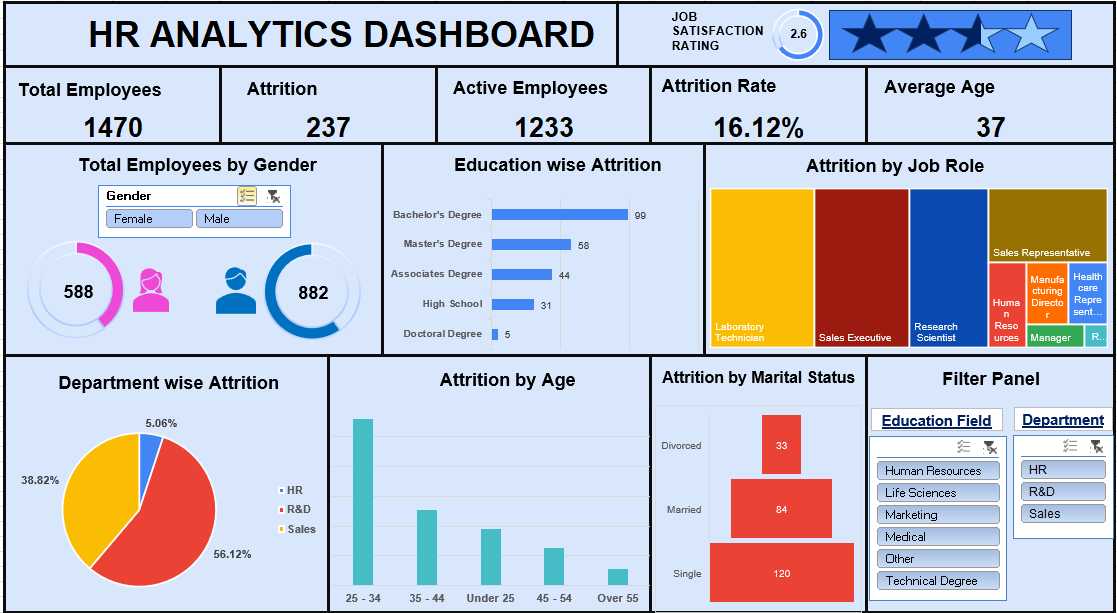

Layout of this report page (visuals, bound fields, positions):
{"tool":"powerbi","page":{"name":"Page 1","canvas":[1280,720],"ordinal":0},"visuals":[{"type":"cardVisual","title":"Total Employees","fields":{"Data":["Sum(HR data.Employee Count)"]},"box":[0,60,235.7,125.7],"z":0},{"type":"cardVisual","title":"Attrition","fields":{"Data":["Sum(HR data.Attrition Count)"]},"box":[263,59.1,235.3,126.7],"z":1000},{"type":"cardVisual","title":"Attrition Rate","fields":{"Data":["HR data.Attrition Rate"]},"box":[524.8,62.7,240.1,123.1],"z":2000},{"type":"cardVisual","title":"Active Employees","fields":{"Data":["HR data.Active Employee"]},"box":[783,62.7,235.3,123.1],"z":3000},{"type":"cardVisual","title":"Average Age","fields":{"Data":["Avg(HR data.Age)"]},"box":[1044.8,63.9,235.3,121.9],"z":4000},{"type":"pieChart","title":"Department Wise Attrition ","fields":{"Category":["HR data.Department"],"Y":["Sum(HR data.Attrition Count)"]},"box":[0,201.4,370,254.3],"z":5000},{"type":"columnChart","title":"No. of Employees by Age Group","fields":{"Category":["HR data.CF_age band"],"Y":["Sum(HR data.Employee Count)"],"Series":["HR data.Gender"]},"box":[381.4,201.4,487.1,285.7],"z":6000},{"type":"pivotTable","title":"Job Satisfaction Ratings","fields":{"Rows":["HR data.Job Role"],"Columns":["HR data.Job Satisfaction"],"Values":["Sum(HR data.Employee Count)"]},"box":[881.4,201.4,398.6,285.7],"z":7000},{"type":"barChart","title":"Education Field Wise Attrition ","fields":{"Category":["HR data.Education Field"],"Y":["Sum(HR data.Attrition Count)"]},"box":[0,465.7,370,254.3],"z":8000},{"type":"donutChart","title":"Over 55","fields":{"Category":["HR data.Gender"],"Y":["Sum(HR data.Attrition Count)"],"Series":["HR data.CF_age band"]},"box":[1084.3,535.7,167.1,184.3],"z":9000},{"type":"textbox","title":"HR Analytics Dashboard","box":[413.8,0,487.4,45.8],"z":10000},{"type":"donutChart","title":"35-44","fields":{"Category":["HR data.Gender"],"Y":["Sum(HR data.Attrition Count)"],"Series":["HR data.CF_age band"]},"box":[722.9,535.7,168.6,182.9],"z":11000},{"type":"donutChart","title":"45-54","fields":{"Category":["HR data.Gender"],"Y":["Sum(HR data.Attrition Count)"],"Series":["HR data.CF_age band"]},"box":[901.4,535.7,168.6,182.9],"z":12000},{"type":"donutChart","title":"25-34","fields":{"Category":["HR data.Gender"],"Y":["Sum(HR data.Attrition Count)"],"Series":["HR data.CF_age band"]},"box":[552.9,535.7,160,182.9],"z":13000},{"type":"donutChart","title":"Under 25","fields":{"Category":["HR data.Gender"],"Y":["Sum(HR data.Attrition Count)"],"Series":["HR data.CF_age band"]},"box":[381.4,537.1,162.9,182.9],"z":14000},{"type":"textbox","title":"Attrition Rate by Gender for Different Age Group","box":[404.3,491.4,821.4,45.7],"z":15000}]}

Visuals, with their boxes in screenshot pixels (x1, y1, x2, y2), scaled from the page's 1280x720 canvas onto the 1117x613 screenshot:
"Total Employees" cardVisual: BBox(0, 51, 206, 158)
"Attrition" cardVisual: BBox(230, 50, 435, 158)
"Attrition Rate" cardVisual: BBox(458, 53, 667, 158)
"Active Employees" cardVisual: BBox(683, 53, 889, 158)
"Average Age" cardVisual: BBox(912, 54, 1116, 158)
"Department Wise Attrition " pieChart: BBox(0, 171, 323, 388)
"No. of Employees by Age Group" columnChart: BBox(333, 171, 758, 415)
"Job Satisfaction Ratings" pivotTable: BBox(769, 171, 1116, 415)
"Education Field Wise Attrition " barChart: BBox(0, 396, 323, 612)
"Over 55" donutChart: BBox(946, 456, 1092, 612)
"HR Analytics Dashboard" textbox: BBox(361, 0, 786, 39)
"35-44" donutChart: BBox(631, 456, 778, 612)
"45-54" donutChart: BBox(787, 456, 934, 612)
"25-34" donutChart: BBox(482, 456, 622, 612)
"Under 25" donutChart: BBox(333, 457, 475, 612)
"Attrition Rate by Gender for Different Age Group" textbox: BBox(353, 418, 1070, 457)
